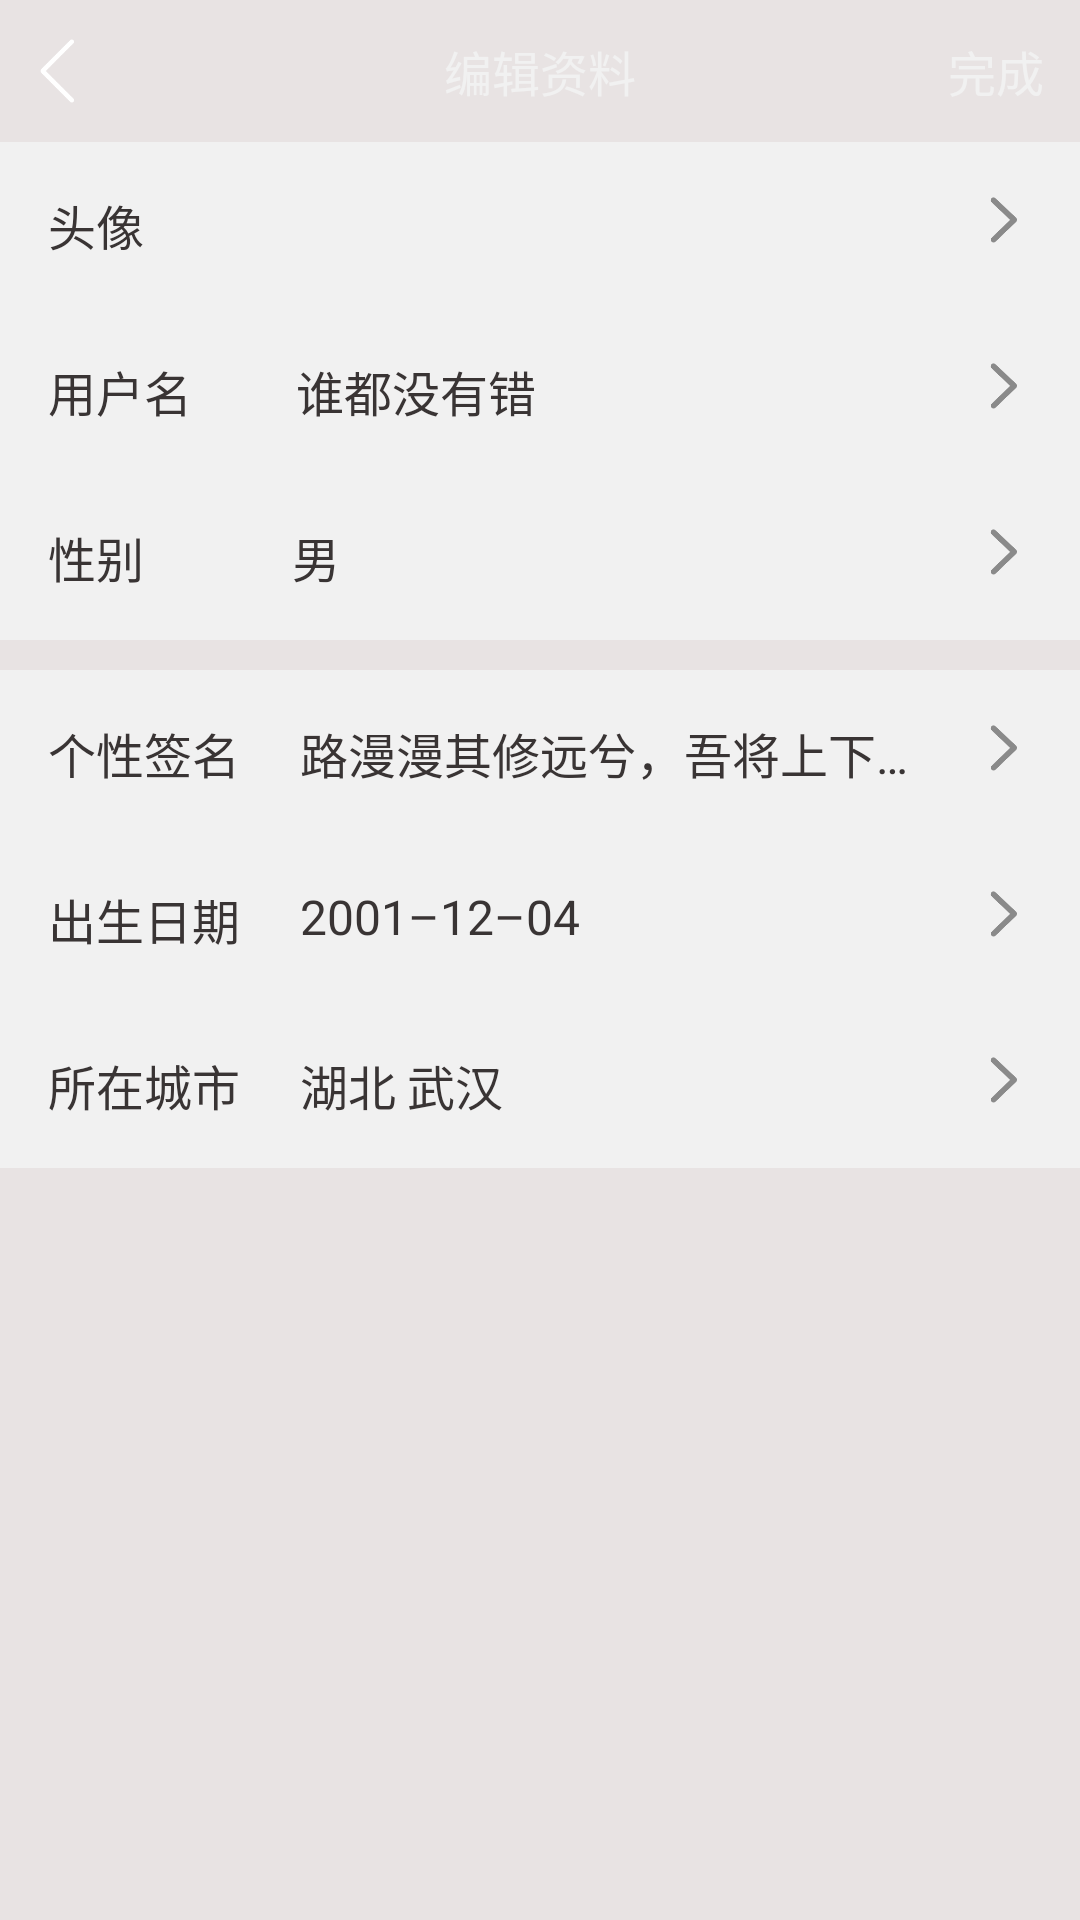

Icons on this 1080 × 1920 Android screen, each with its box as bbox=(x1, y1, x2, y2):
back: bbox=(41, 40, 74, 102)
right: bbox=(991, 197, 1017, 243), bbox=(991, 363, 1017, 409), bbox=(991, 529, 1017, 575), bbox=(991, 725, 1017, 771), bbox=(991, 891, 1017, 937), bbox=(991, 1057, 1017, 1103)
